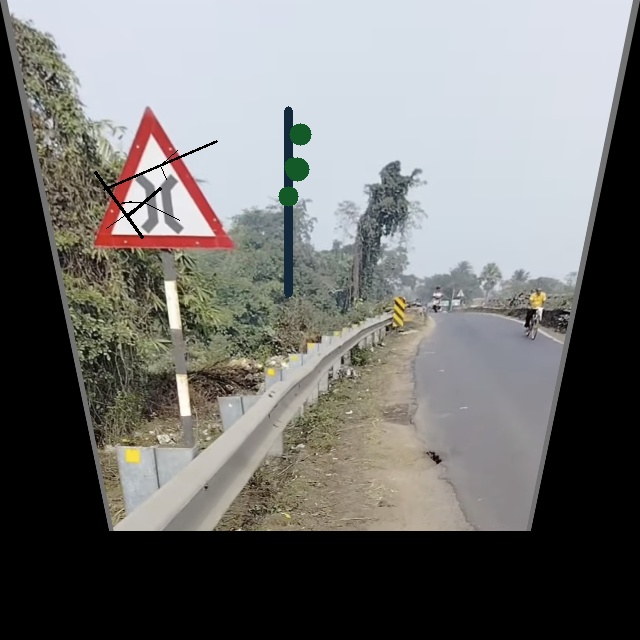Narrow_Bridge: (78, 111, 228, 244)
